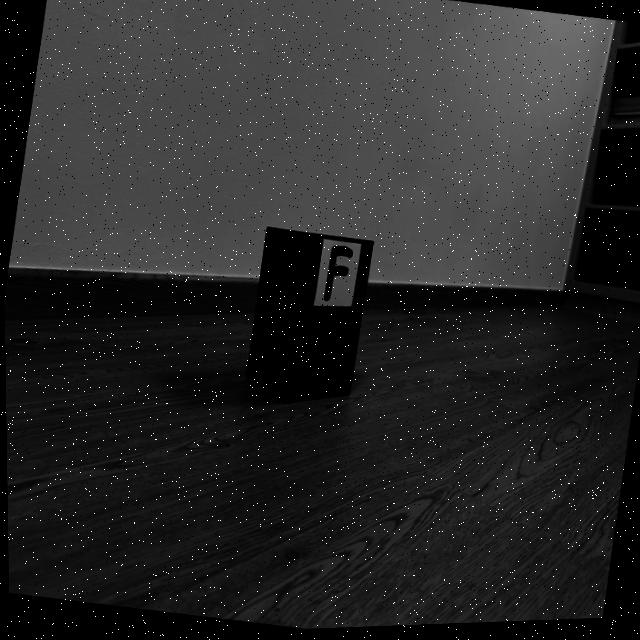F: (323, 248, 352, 304)
